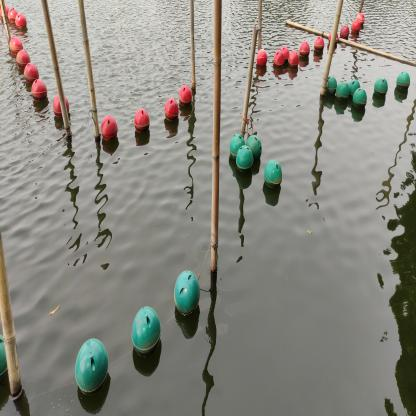green_buoy: (74, 337, 111, 397), (130, 305, 164, 361), (174, 268, 200, 317), (264, 159, 282, 190), (235, 145, 254, 174), (229, 133, 246, 160), (246, 135, 262, 163), (0, 334, 9, 381), (396, 69, 412, 93), (352, 87, 368, 110), (374, 76, 388, 98), (348, 78, 362, 99), (336, 80, 349, 102), (325, 76, 337, 98)
red_buoy: (100, 114, 119, 143), (134, 107, 150, 134), (53, 93, 70, 118), (31, 78, 48, 102), (164, 96, 179, 121), (179, 84, 193, 108), (24, 62, 39, 84), (9, 36, 24, 56), (16, 49, 31, 69), (273, 49, 285, 68), (256, 48, 268, 66), (288, 49, 299, 68), (15, 13, 27, 30), (280, 45, 290, 64), (314, 36, 325, 53), (7, 8, 18, 24), (0, 4, 10, 21), (300, 41, 310, 58), (351, 19, 361, 34), (328, 31, 338, 45), (340, 25, 350, 39), (356, 13, 365, 26)
